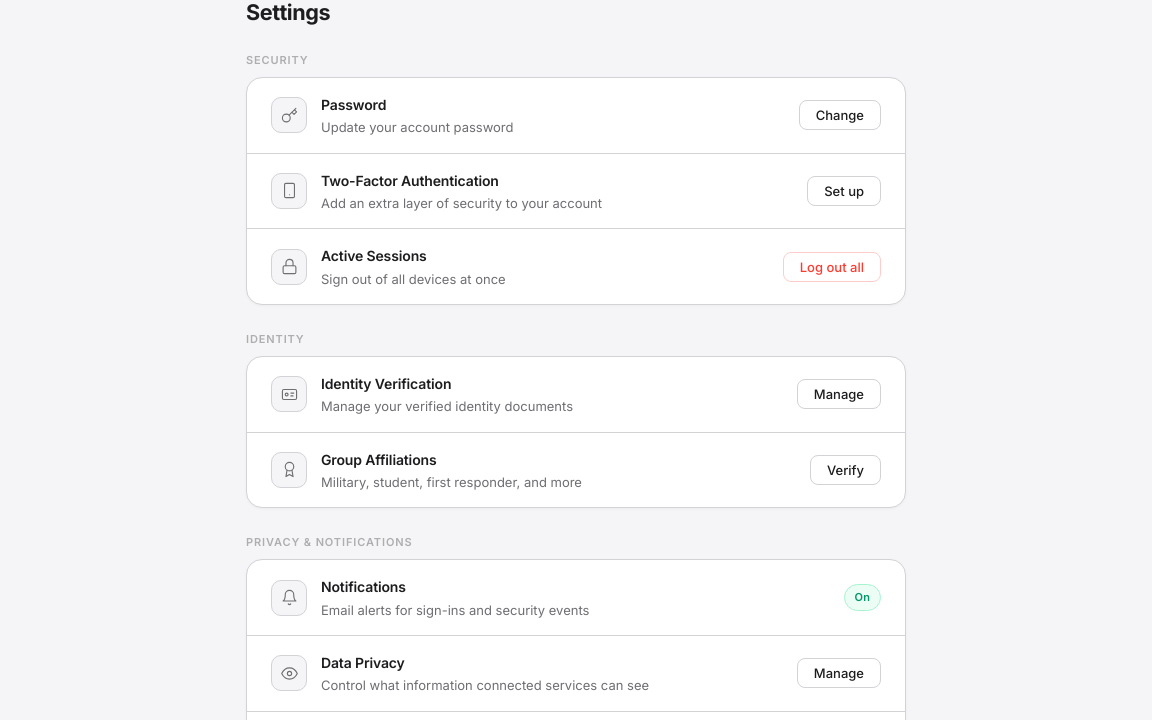
Test: Settings Page › shows password modal when Change button is clicked
Click the button "Change" at [840, 115], box [799, 100, 881, 130]
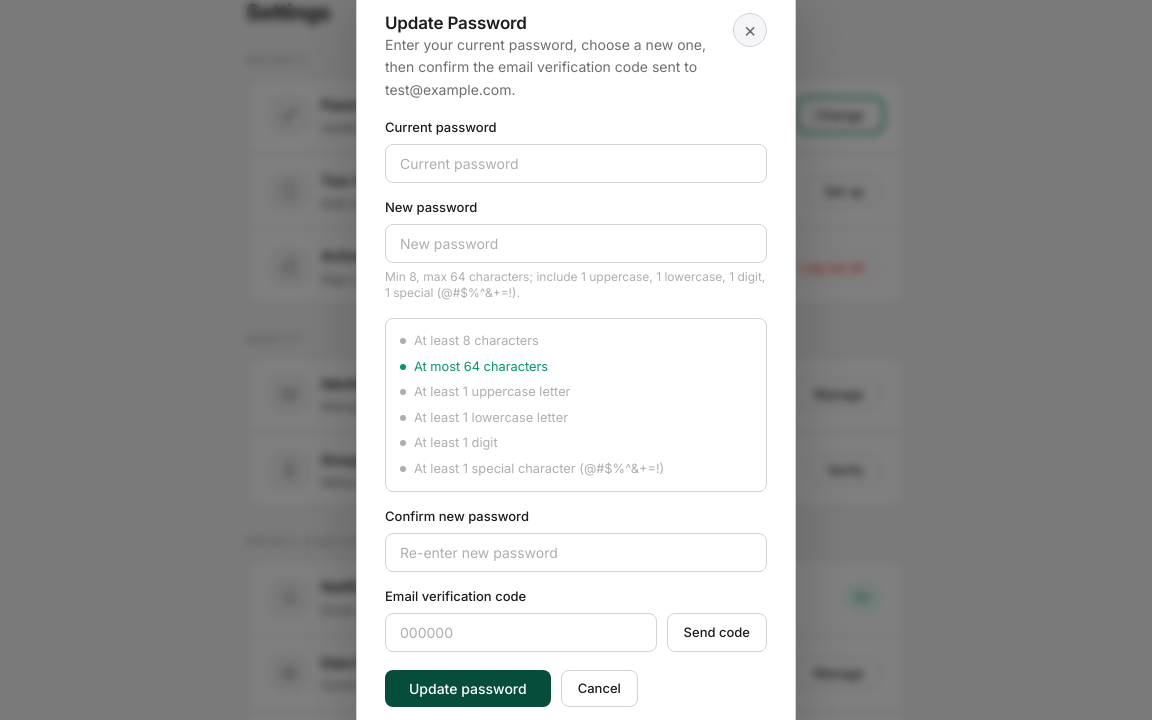
Check: the heading "Update Password" is shown, box [385, 13, 527, 33]
Check: the password field labelled "Current password" is shown, box [385, 144, 767, 183]
Check: the password field labelled "New password" is shown, box [385, 224, 767, 263]
